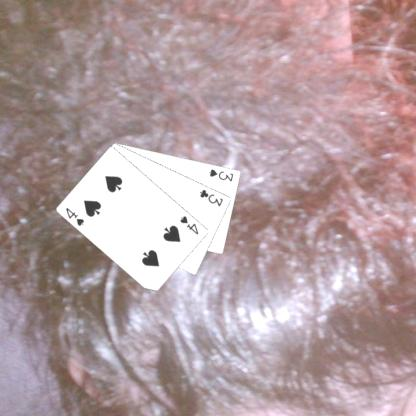3C: (197, 186, 225, 208)
3S: (207, 166, 234, 182)
4S: (177, 213, 200, 236), (64, 205, 86, 228)
